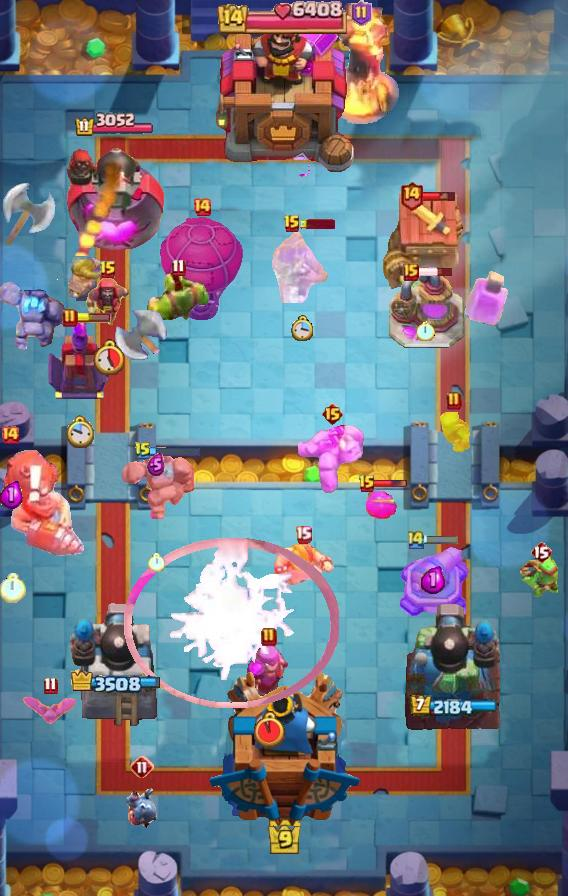barbarian: (21, 695, 79, 725)
barbarian-evolution: (125, 537, 340, 709)
barbarian-hut: (265, 227, 339, 303)
bowler: (82, 275, 134, 331)
cannon-cart: (159, 215, 245, 323)
clock: (217, 0, 351, 34)
electro-dragon: (322, 0, 400, 128)
electro-spirit: (421, 566, 445, 594), (1, 479, 24, 508), (147, 452, 165, 476)
elixir: (255, 711, 285, 749), (93, 339, 123, 375), (66, 415, 94, 449), (0, 573, 26, 603), (290, 315, 313, 341), (417, 321, 435, 341), (147, 553, 165, 571)
emote: (150, 445, 201, 457), (418, 266, 455, 278), (422, 190, 458, 202), (424, 535, 460, 546), (299, 219, 335, 229), (75, 313, 111, 323), (374, 479, 408, 489)
flying-machine: (144, 273, 212, 329)
giant-snowball: (520, 554, 562, 598)
goblin-giant: (272, 539, 334, 587), (68, 255, 104, 301)
ice-spirit-evolution-symbol: (47, 314, 111, 402)
king-tower: (211, 7, 357, 181), (207, 669, 361, 826)
knight-evolution: (464, 269, 508, 326)
miner: (366, 489, 398, 519)
pekka: (387, 268, 465, 350)
rascal-girl: (245, 641, 293, 709)
royal-delivery: (124, 784, 160, 828)
royal-giant: (0, 180, 58, 252), (115, 310, 175, 370)
royal-recruit: (396, 543, 473, 625)
selected: (68, 669, 160, 695), (73, 112, 154, 138), (409, 694, 497, 717)
sparky: (383, 193, 469, 291)
text: (399, 181, 424, 211), (130, 755, 154, 779), (351, 0, 373, 26), (320, 402, 343, 426), (530, 540, 552, 564), (406, 530, 426, 551), (192, 197, 212, 217), (0, 425, 20, 445), (283, 214, 301, 234), (99, 260, 117, 280), (134, 441, 152, 461), (358, 474, 376, 494), (62, 308, 78, 328), (446, 391, 462, 411), (261, 627, 277, 647), (295, 525, 312, 543), (403, 263, 419, 281), (170, 259, 185, 277), (43, 677, 57, 695)
tower-bar: (403, 601, 503, 731), (63, 138, 164, 256), (69, 599, 159, 731)
valkyrie-evolution: (118, 447, 194, 525), (298, 423, 366, 495), (0, 279, 66, 351)
wizard: (0, 447, 86, 557)
zap: (437, 412, 471, 456)
